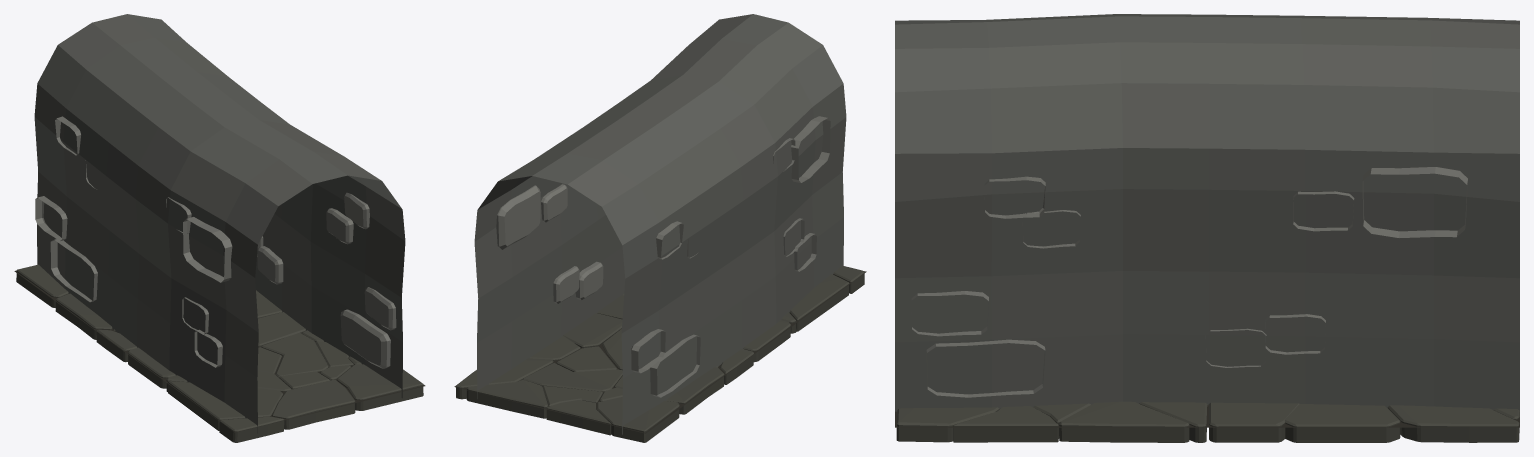
The model's file is Hallway_Full.glb.
The picture shows the model from 3 angles, left to right: view 1: azimuth 30°, elevation 25°; view 2: azimuth 150°, elevation 25°; view 3: azimuth 270°, elevation 25°; orthographic projection. The views are drawn at different scales.
Visible parts, largest first — view 1: Hallway_Full; view 2: Hallway_Full; view 3: Hallway_Full.
Boxes of the visible parts, x1,y1,x2,y2 form: Hallway_Full: (14, 14, 425, 442); Hallway_Full: (454, 14, 866, 442); Hallway_Full: (895, 14, 1519, 442).
Bounding box in the file's own units: 2 × 2.42 × 4.
2 materials, 2 textured.
